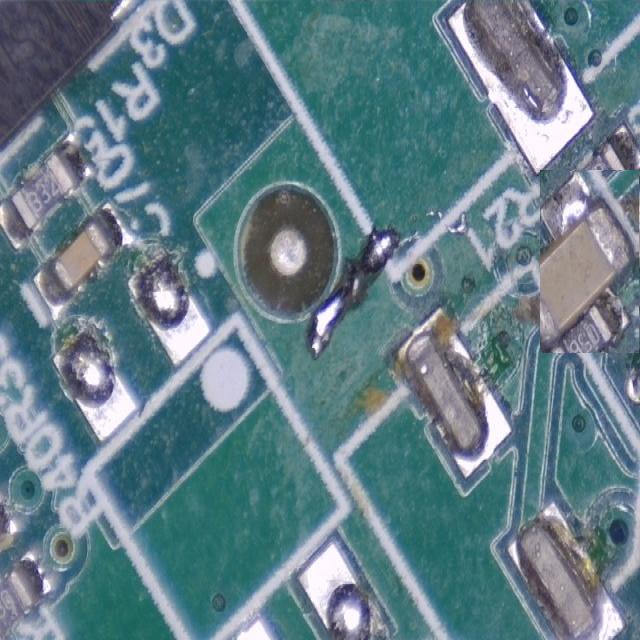Incorrect_installation: (540, 171, 637, 353)
